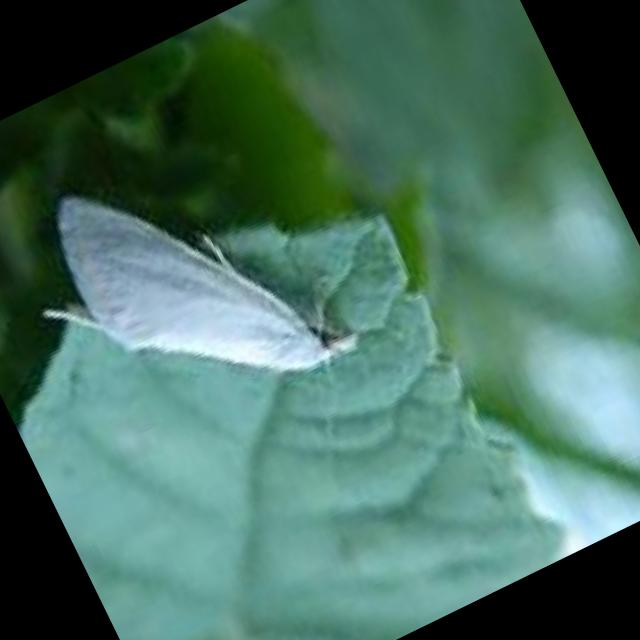stem-borer: (0, 101, 367, 473)
